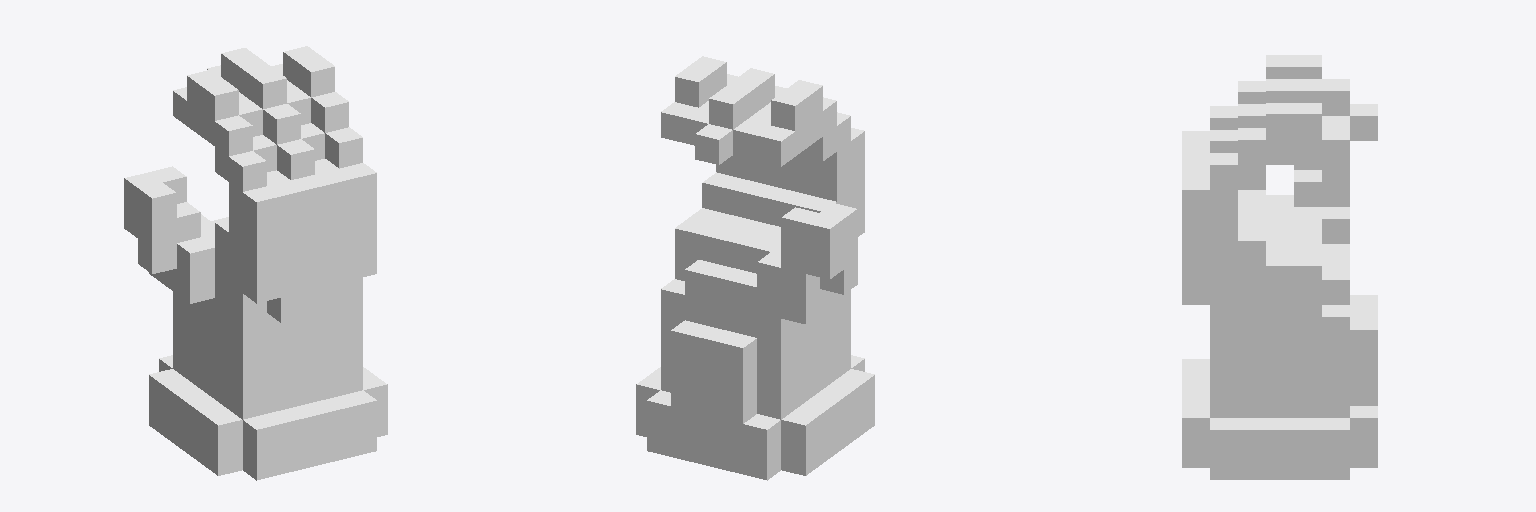
The model's file is gauntlet.vox.obj.
3 renders of one model, left to right at view 1: azimuth 30°, elevation 25°; view 2: azimuth 150°, elevation 25°; view 3: azimuth 270°, elevation 25°, orthographic.
Parts seen in each view (by area): view 1: object 1; view 2: object 1; view 3: object 1.
Boxes of the visible parts, box(x1,y1,x2,y2) form: object 1: box(124, 46, 387, 480); object 1: box(636, 56, 874, 480); object 1: box(1182, 55, 1377, 479).
Size of the model in its own units: 0.8 by 1.4 by 0.7.